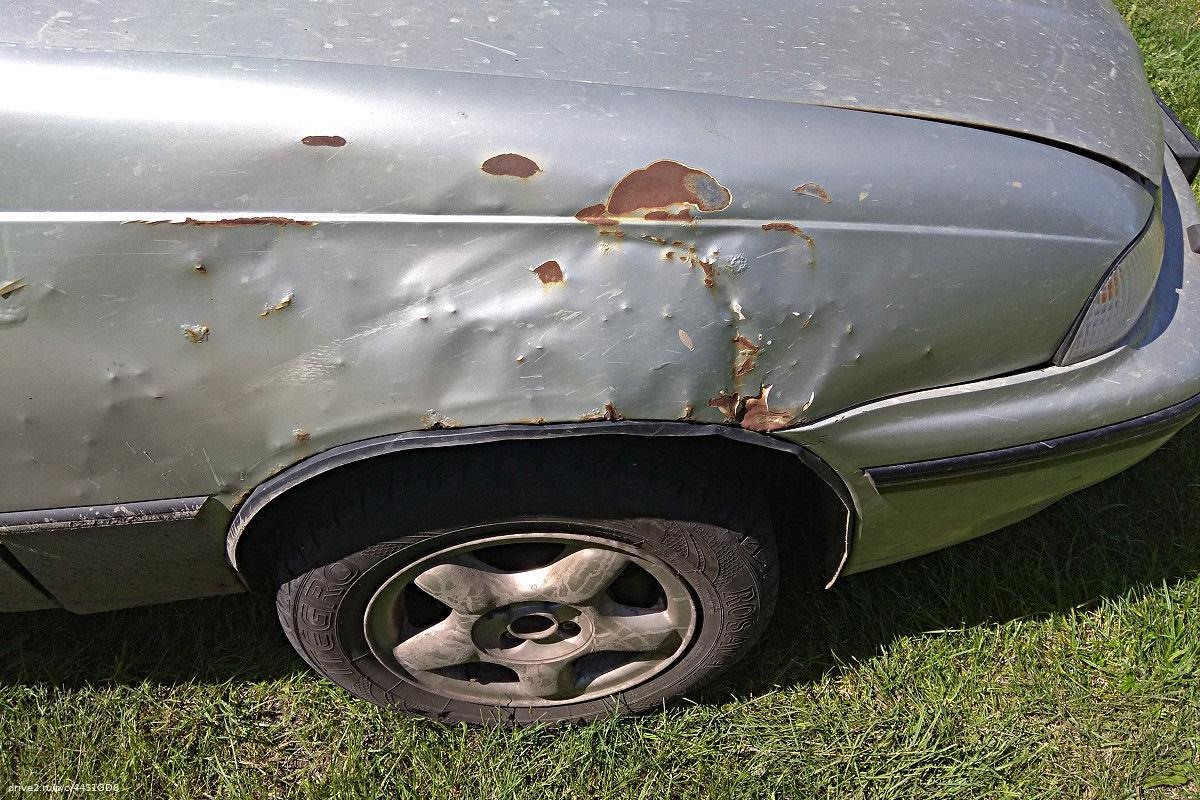corrosion: (684, 258, 801, 441), (571, 156, 739, 240), (471, 143, 547, 183), (293, 128, 357, 158), (528, 259, 575, 291)
